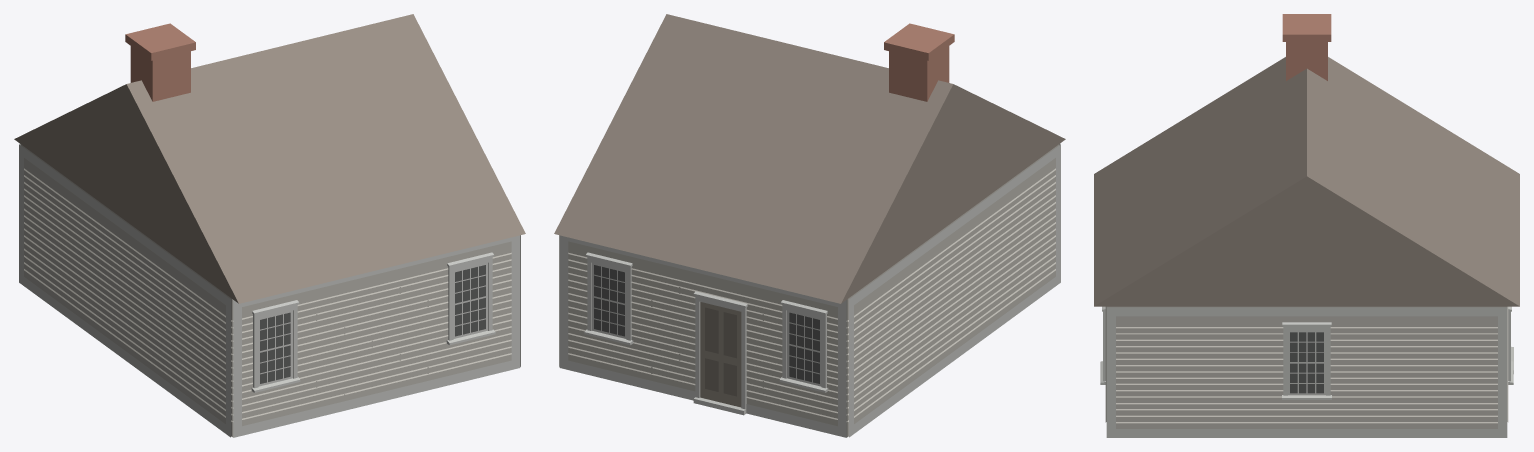
The model's file is recon_1835_south_d4_009__inferred_1835.glb.
The picture shows the model from 3 angles, left to right: view 1: azimuth 30°, elevation 25°; view 2: azimuth 150°, elevation 25°; view 3: azimuth 270°, elevation 25°; orthographic projection. The views are drawn at different scales.
Visible parts, largest first — view 1: recon_1835_south_d4_009__inferred_1835; view 2: recon_1835_south_d4_009__inferred_1835; view 3: recon_1835_south_d4_009__inferred_1835.
Part boxes in pixels (x1,y1,x2,y2): recon_1835_south_d4_009__inferred_1835: [14, 14, 525, 437]; recon_1835_south_d4_009__inferred_1835: [554, 14, 1065, 437]; recon_1835_south_d4_009__inferred_1835: [1094, 14, 1519, 437].
Bounding box in the file's own units: 6.43 × 6.55 × 8.53.
